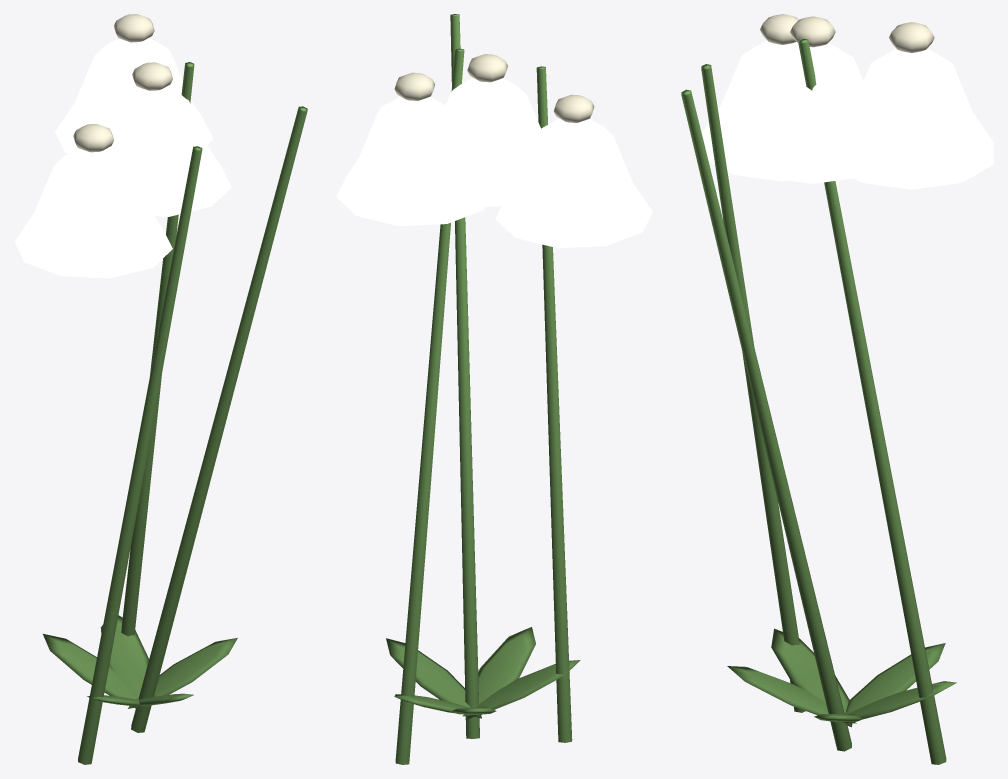
Rendered from herb_mesicni_lilie.glb.
The picture shows the model from 3 angles, left to right: view 1: azimuth 30°, elevation 25°; view 2: azimuth 150°, elevation 25°; view 3: azimuth 270°, elevation 25°; orthographic projection. The views are drawn at different scales.
Parts seen in each view (by area): view 1: herb_mesicni_lilie; view 2: herb_mesicni_lilie; view 3: herb_mesicni_lilie.
Boxes of the visible parts, <box> form: herb_mesicni_lilie: <box>14,14,307,764</box>; herb_mesicni_lilie: <box>336,14,652,764</box>; herb_mesicni_lilie: <box>681,14,993,764</box>.
Size of the model in its own units: 0.2072 by 0.568 by 0.2178.
